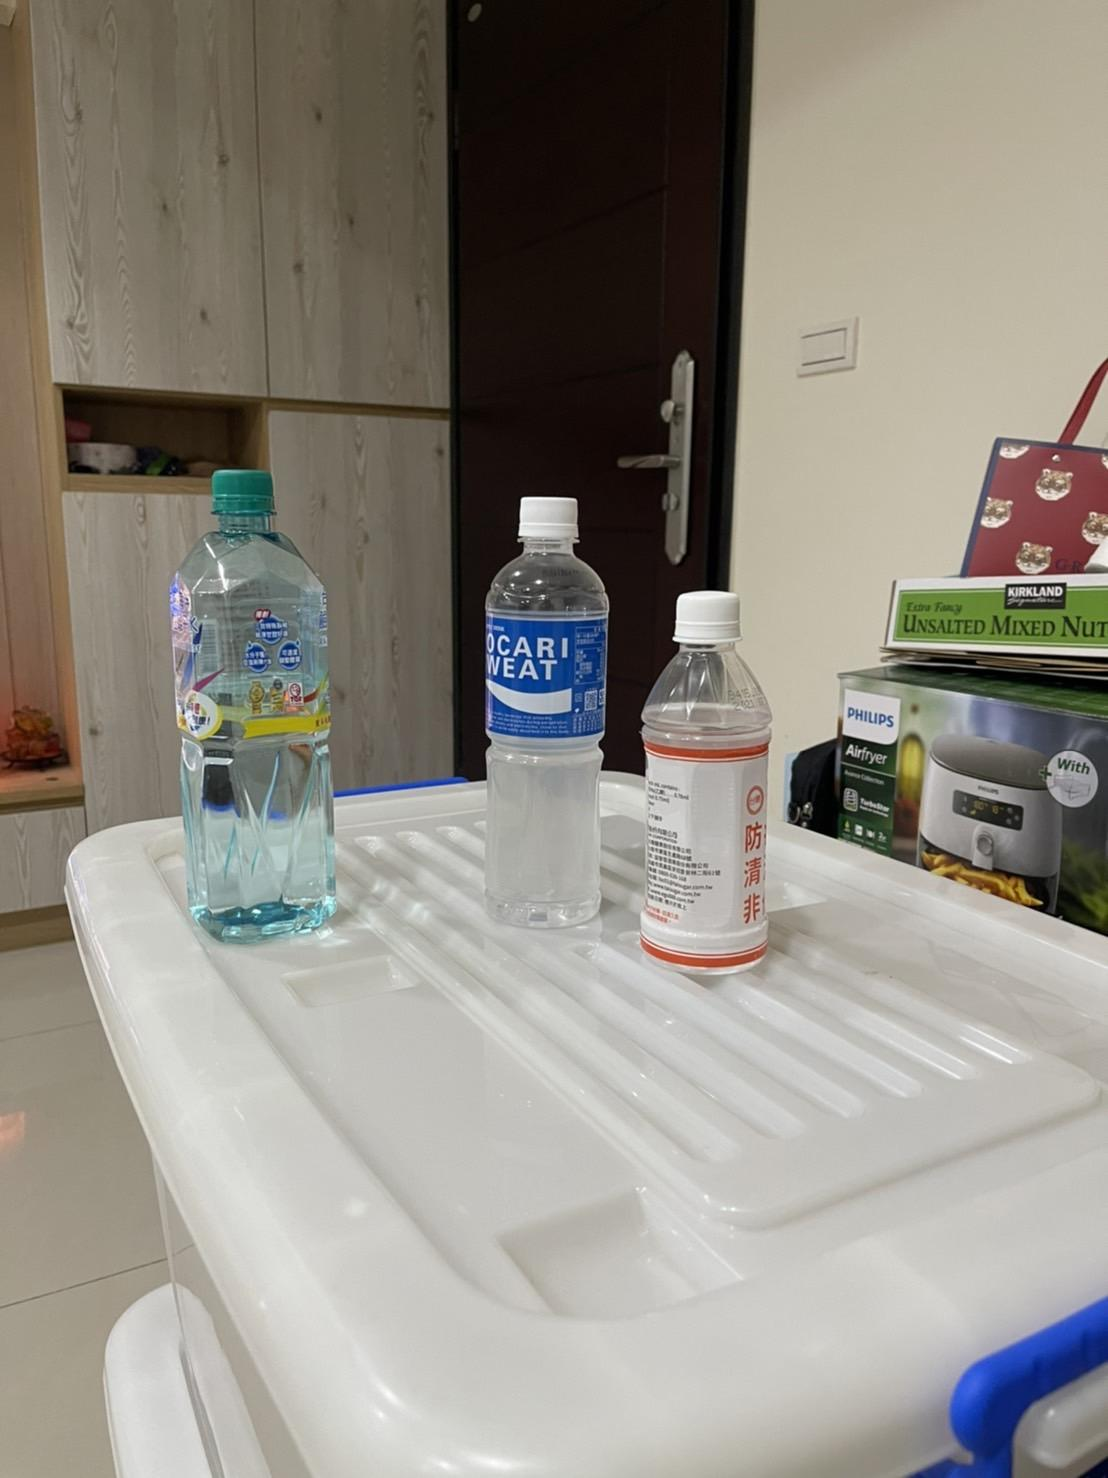bottle: (158, 448, 347, 962), (467, 488, 619, 943), (630, 0, 787, 253)
